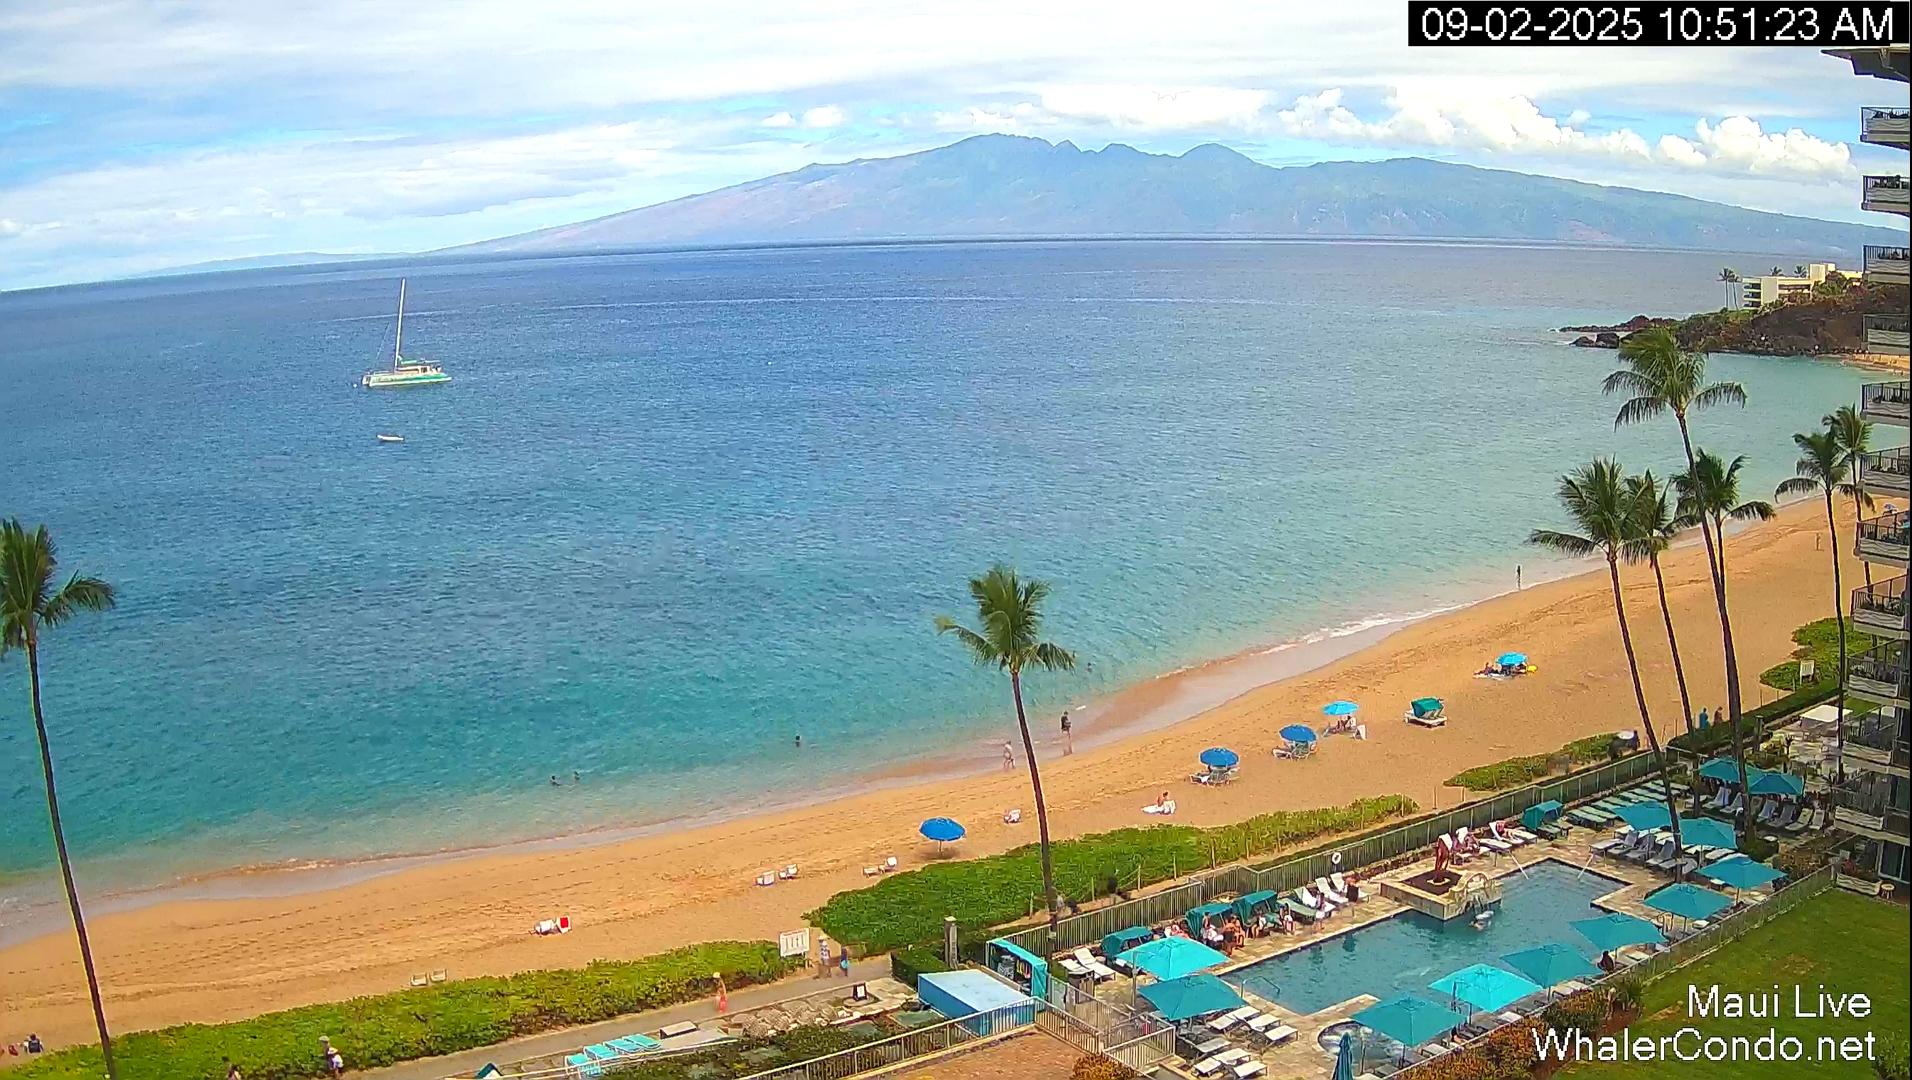boat: (362, 277, 452, 388), (376, 434, 404, 442)
person: (317, 1035, 344, 1078), (1344, 872, 1361, 923), (1311, 891, 1329, 934), (1223, 917, 1240, 958), (714, 972, 732, 1010), (1279, 901, 1297, 933), (818, 936, 830, 978), (1253, 908, 1269, 939), (1155, 791, 1176, 814), (1494, 819, 1513, 843), (1202, 910, 1215, 944), (1003, 740, 1016, 771), (1596, 951, 1616, 970), (1514, 565, 1527, 593), (1453, 831, 1465, 860), (1061, 710, 1072, 740), (1467, 830, 1480, 854), (1699, 707, 1710, 730), (1628, 730, 1640, 751), (1713, 706, 1724, 727), (1334, 714, 1351, 727), (227, 1066, 242, 1080), (25, 1032, 40, 1042), (550, 775, 562, 787), (1171, 923, 1182, 936), (1814, 531, 1820, 551), (573, 770, 581, 781), (795, 734, 801, 748), (1087, 661, 1093, 671)
